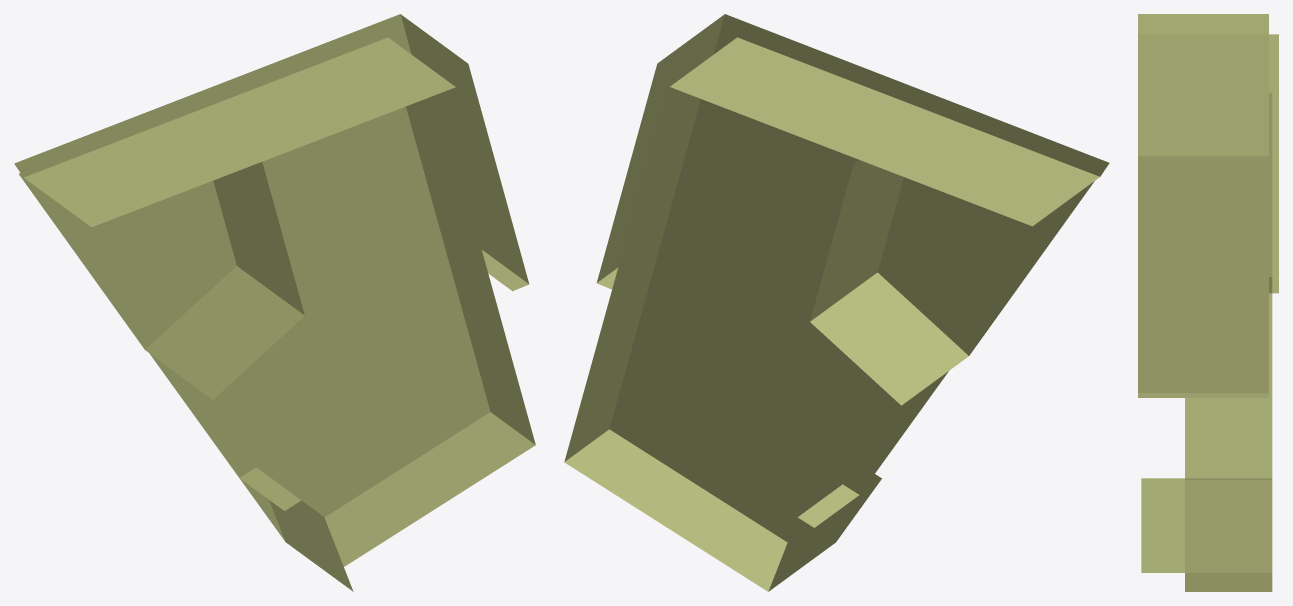
The picture shows the model from 3 angles, left to right: view 1: azimuth 30°, elevation 25°; view 2: azimuth 150°, elevation 25°; view 3: azimuth 270°, elevation 25°; orthographic projection. The views are drawn at different scales.
Visible parts, largest first — view 1: 0_1_2_0_3_3_3_3_0; view 2: 0_1_2_0_3_3_3_3_0; view 3: 0_1_2_0_3_3_3_3_0.
Part boxes in pixels (bbox=[...]): 0_1_2_0_3_3_3_3_0: bbox=[14, 14, 535, 591]; 0_1_2_0_3_3_3_3_0: bbox=[564, 14, 1109, 591]; 0_1_2_0_3_3_3_3_0: bbox=[1138, 14, 1278, 591].
Size of the model in its own units: 36.54 by 36.65 by 9.68.
